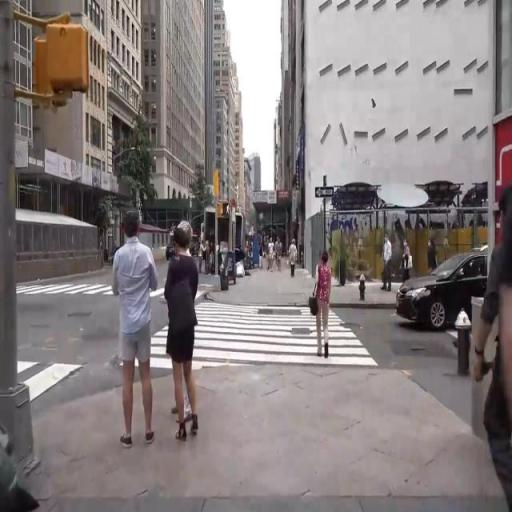person: (116, 212, 161, 450), (482, 166, 512, 512), (165, 223, 200, 449), (317, 248, 335, 372), (382, 230, 394, 302), (425, 231, 440, 282), (401, 238, 414, 283), (291, 236, 300, 285), (269, 238, 277, 275), (198, 237, 206, 271), (279, 242, 285, 275)
